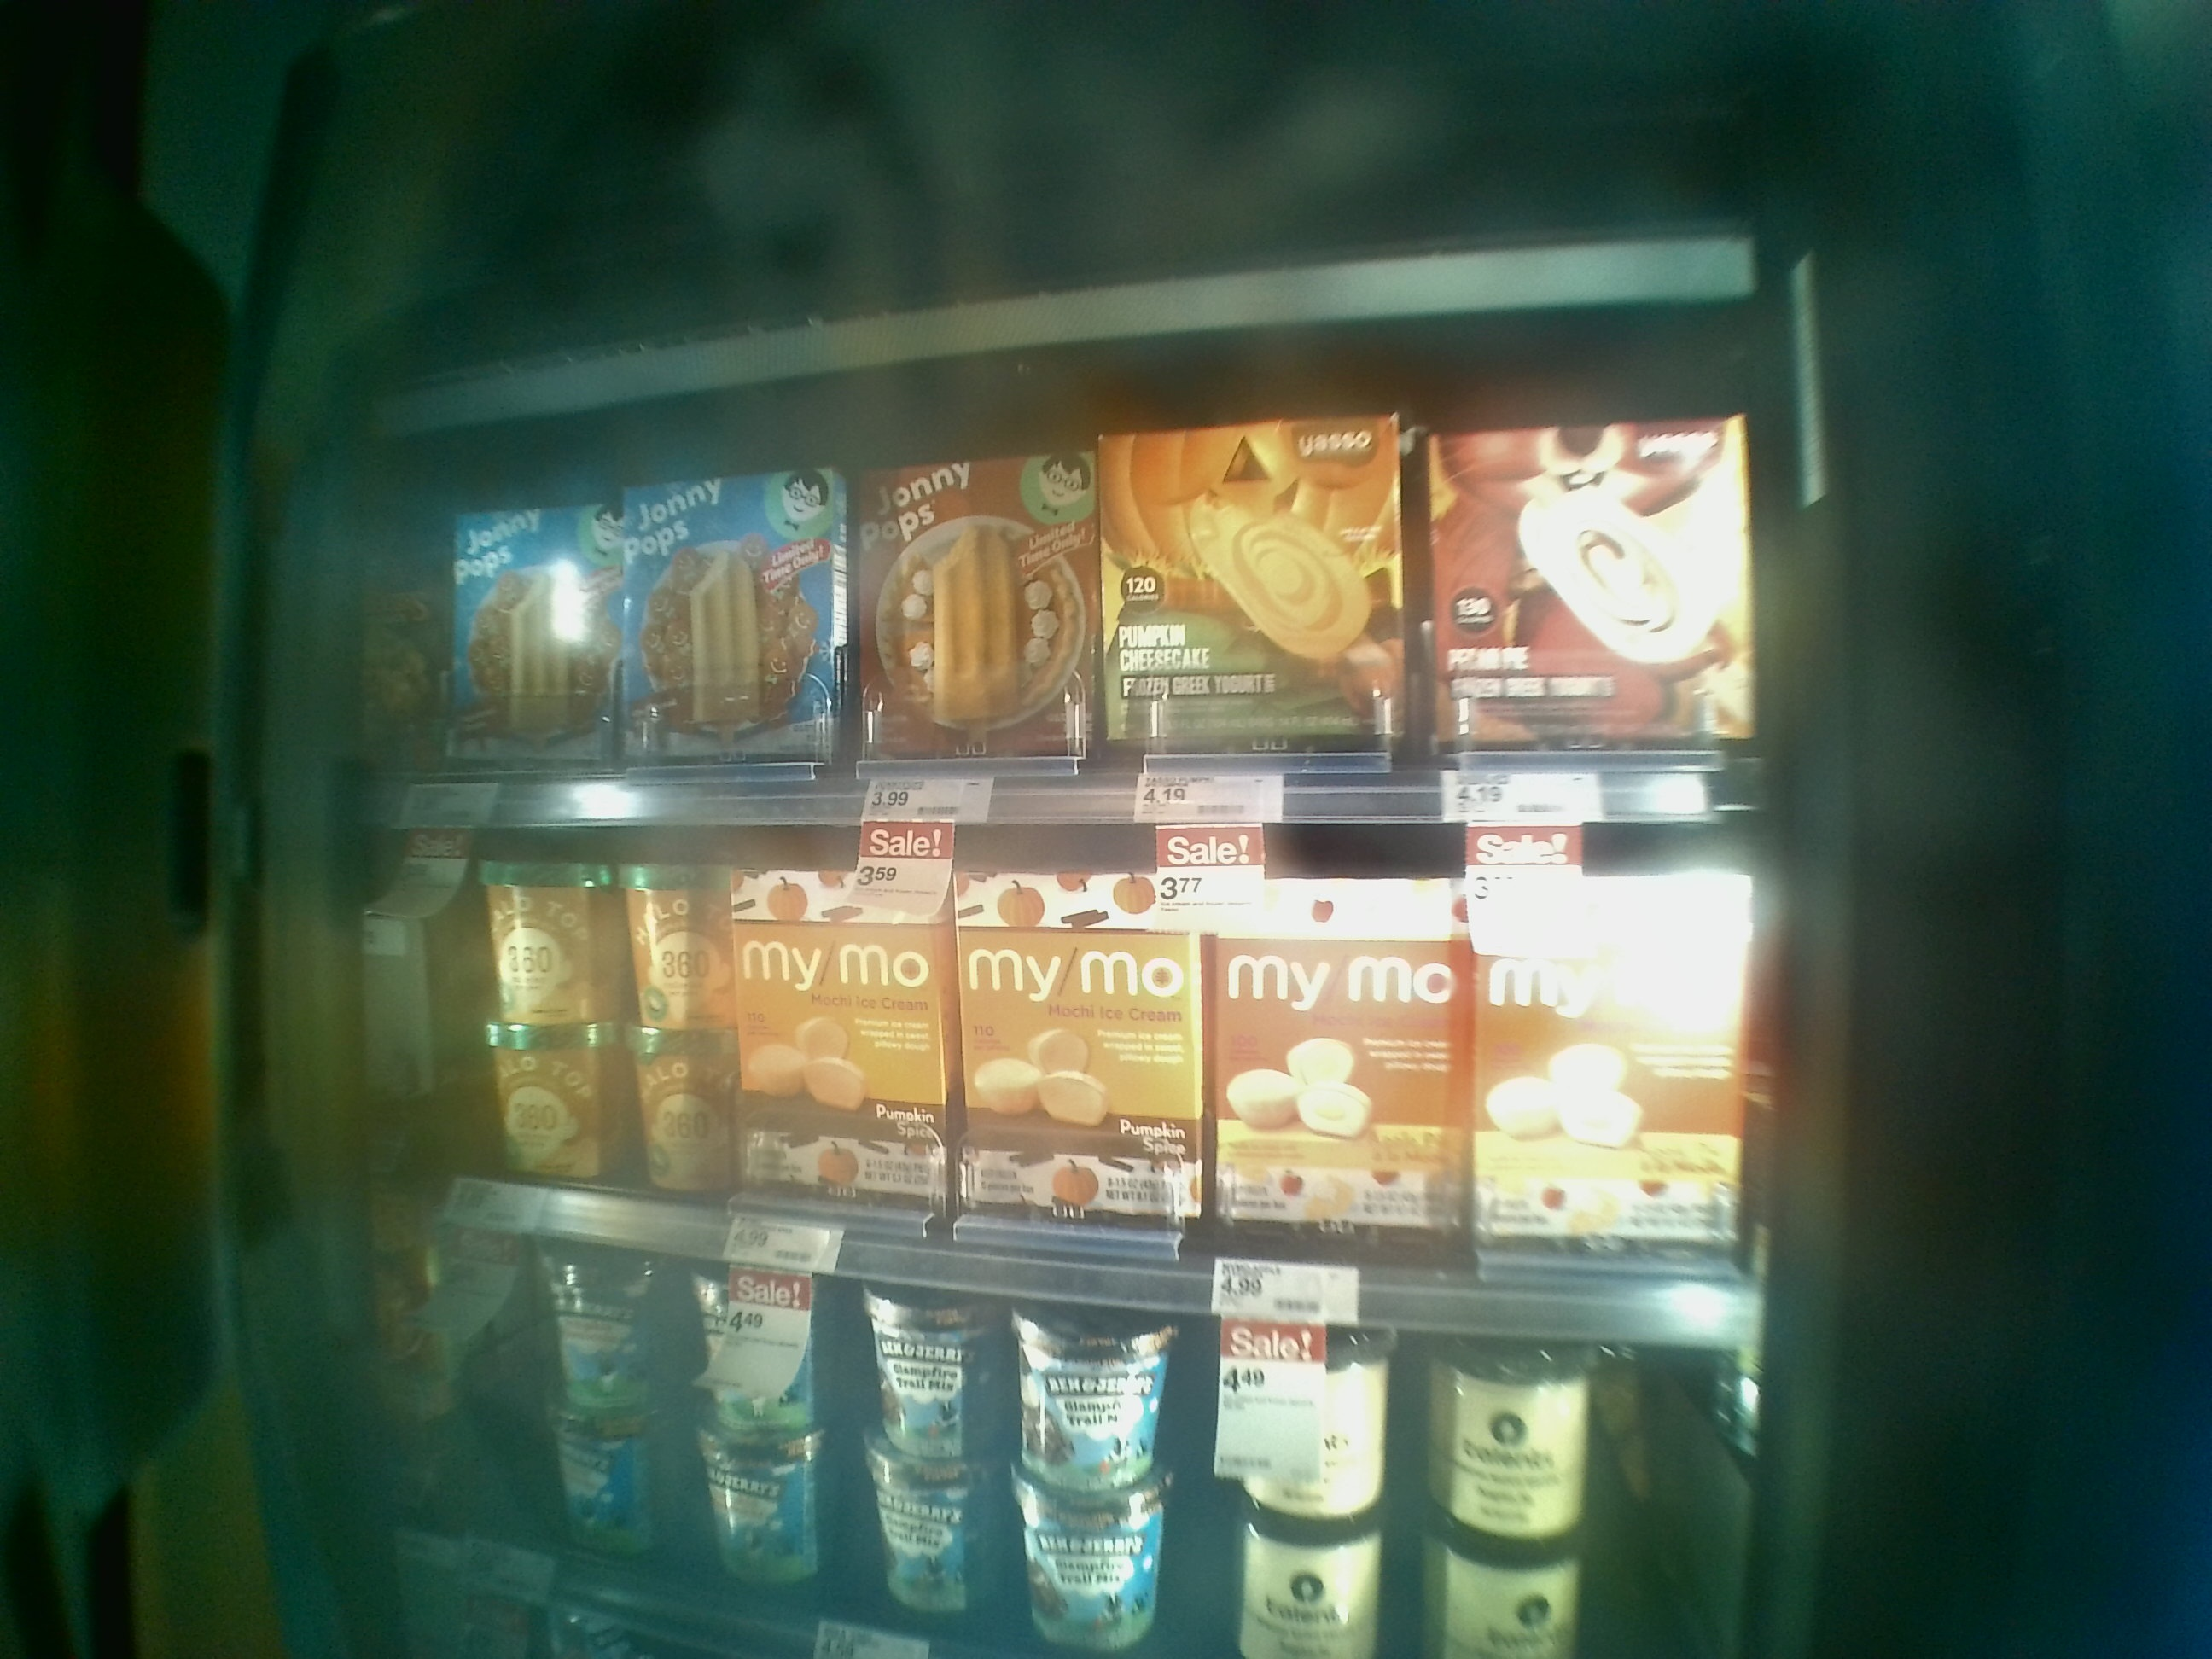shelf: (308, 802, 1768, 1347), (340, 376, 1792, 828)
